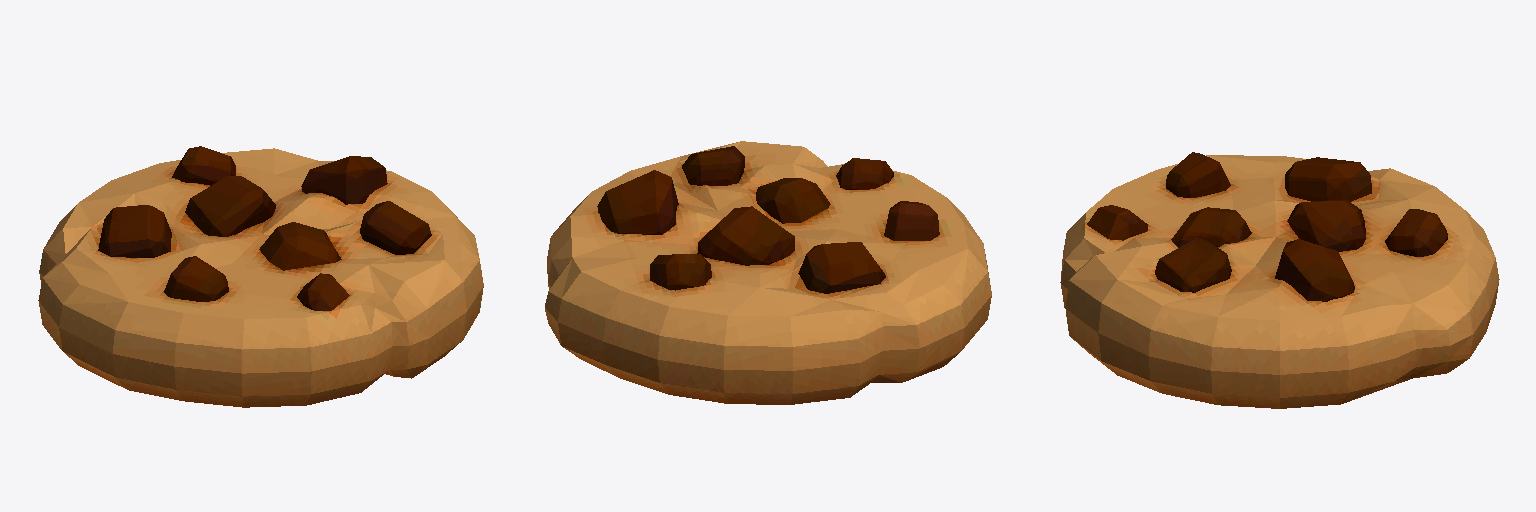
3 views of the same model, side by side, from view 1: azimuth 30°, elevation 25°; view 2: azimuth 150°, elevation 25°; view 3: azimuth 270°, elevation 25° (orthographic).
Visible parts, largest first — view 1: Cookie; view 2: Cookie; view 3: Cookie.
Part boxes in pixels (x1,y1,x2,y2): Cookie: (38, 146, 483, 407); Cookie: (545, 141, 991, 404); Cookie: (1060, 152, 1499, 408).
Size of the model in its own units: 0.1873 by 0.0616 by 0.1808.
1 materials, 1 textured.